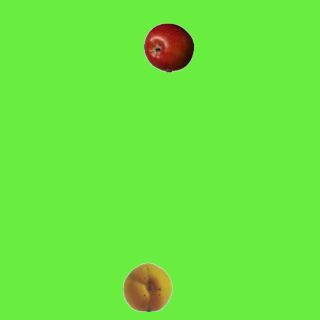Apple Braeburn: (143, 22, 193, 72)
Peach 2: (122, 261, 172, 311)
